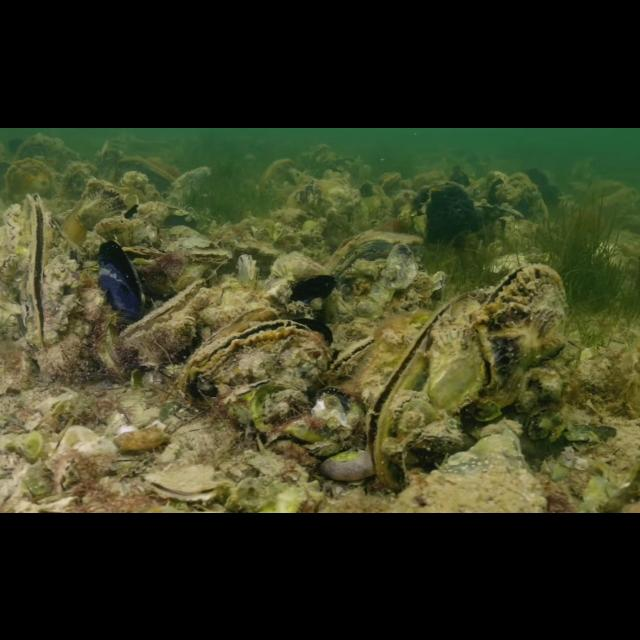Oyster-Closed: (121, 276, 206, 344), (327, 228, 427, 276), (95, 238, 148, 326), (124, 234, 232, 266), (394, 388, 434, 419), (3, 204, 27, 252), (304, 436, 346, 456), (1, 255, 23, 285)
Oyster-Open: (368, 282, 494, 490), (186, 318, 332, 396), (488, 262, 570, 400), (18, 189, 62, 351), (145, 462, 225, 506), (329, 335, 377, 375)
